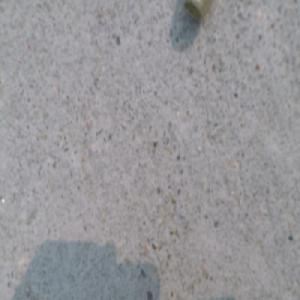BoltNutSet: (185, 1, 207, 20)
